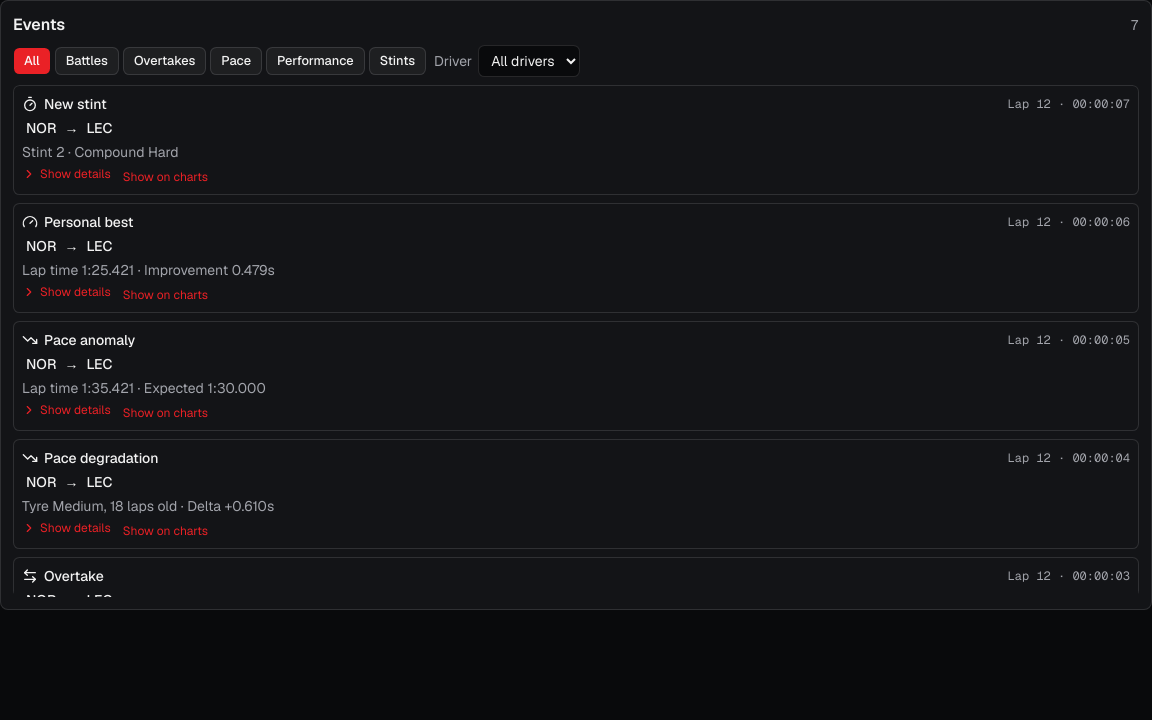
it: EventFeed › renders all seven types with evidence in details
The width and height of the screenshot is (1152, 720).
Expected: the text "Delta +0.610s" is shown, [22, 497, 274, 515]
Expected: the text "Lap time 1:35.421" is shown, [22, 379, 266, 397]
What coordinates should you click on to do the following:
click the button "Show details" below "New stint"
I would click on:
 (66, 174)
Its box is [22, 166, 111, 182].
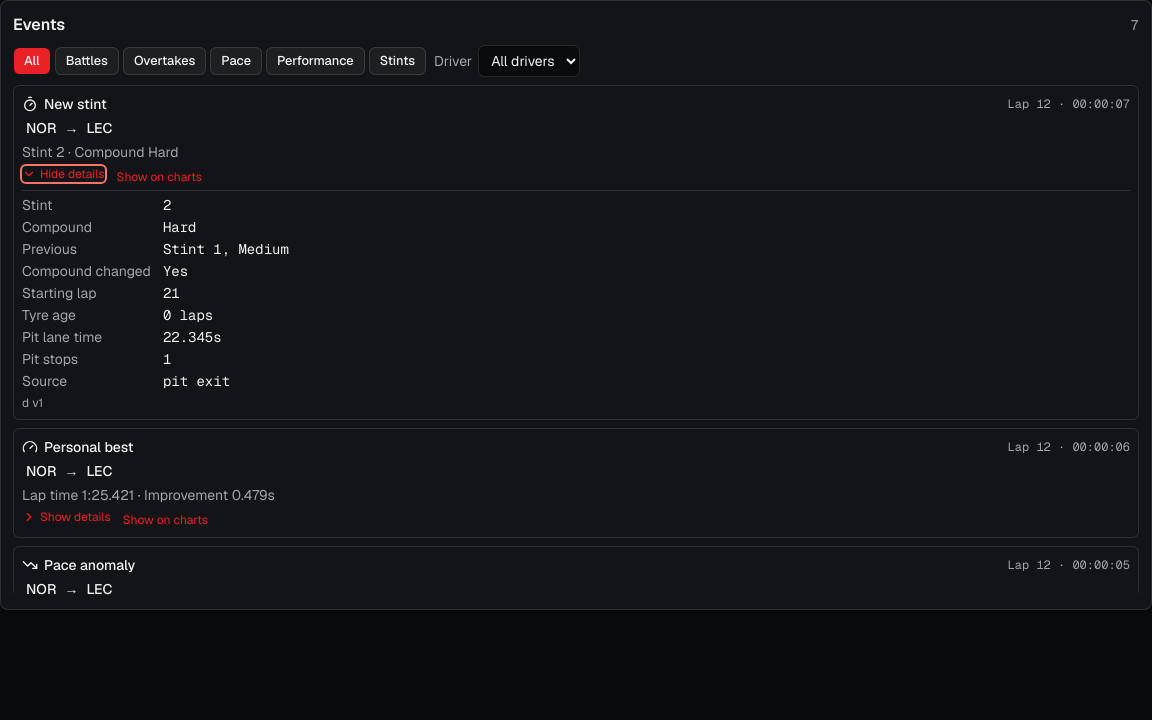
Now the text "Stint" is shown, box [22, 196, 52, 214]
Now the text "d v1" is shown, box [22, 395, 43, 411]
Now the button "Hide details" is expanded, box [22, 166, 105, 182]
